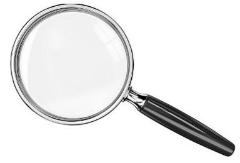glass: (10, 3, 236, 156)
